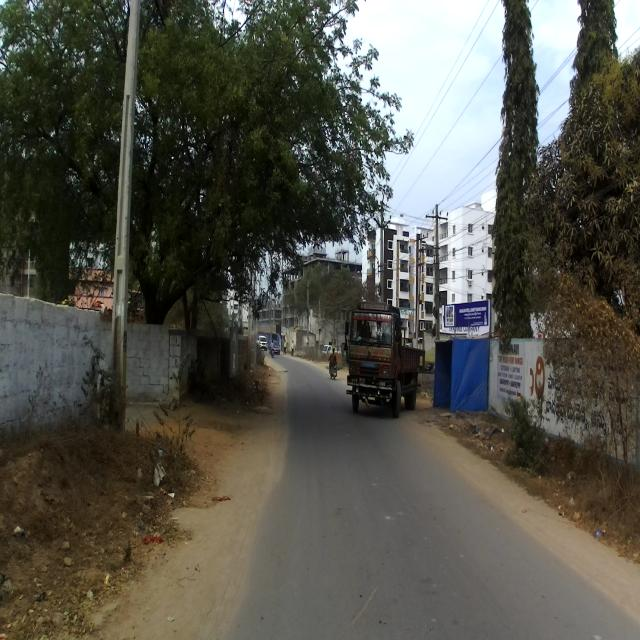electric pole ahead at: (112, 0, 146, 428)
truck ahead at: (345, 301, 424, 423)
